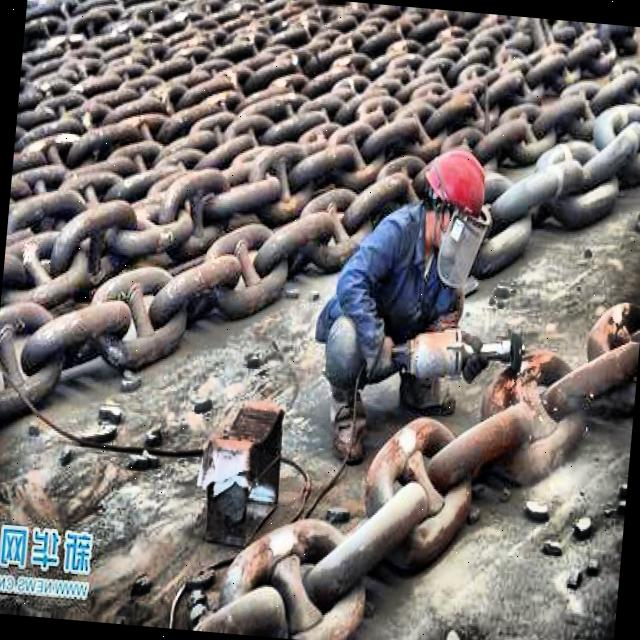helmet: (408, 142, 496, 252)
